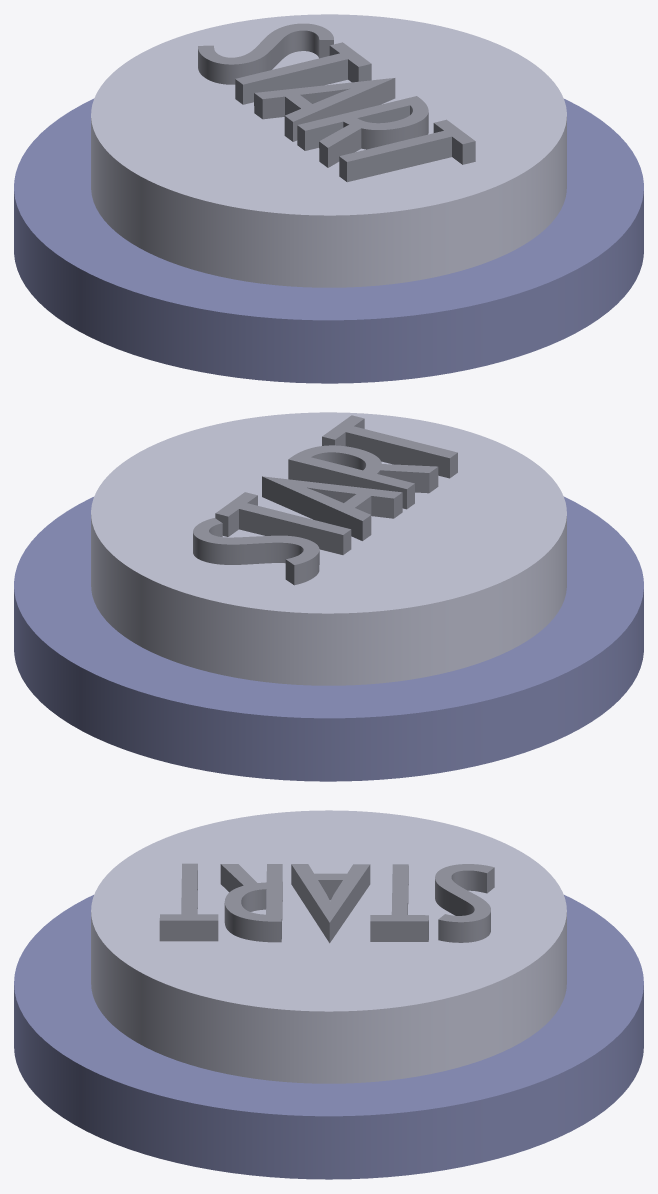
Rendered from start_button.glb.
The picture shows the model from 3 angles, top to bottom: view 1: azimuth 30°, elevation 25°; view 2: azimuth 150°, elevation 25°; view 3: azimuth 270°, elevation 25°; orthographic projection.
Visible parts, largest first — view 1: Object_8, Object_6, Object_4; view 2: Object_8, Object_6, Object_4; view 3: Object_8, Object_6, Object_4.
Part boxes in pixels (left/top/right/bottom): Object_8: left=91, top=14, right=566, bottom=287; Object_6: left=14, top=98, right=643, bottom=383; Object_4: left=198, top=23, right=475, bottom=182; Object_8: left=91, top=412, right=566, bottom=685; Object_6: left=14, top=496, right=643, bottom=781; Object_4: left=193, top=415, right=457, bottom=585; Object_8: left=91, top=810, right=566, bottom=1083; Object_6: left=14, top=895, right=643, bottom=1179; Object_4: left=159, top=863, right=494, bottom=943.
Bounding box in the file's own units: 0.0632 × 0.0173 × 0.0632.
